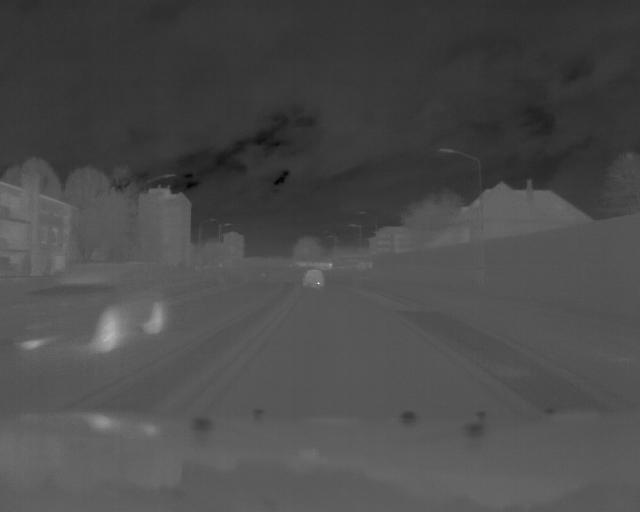car: (30, 263, 168, 350), (301, 266, 326, 288)
